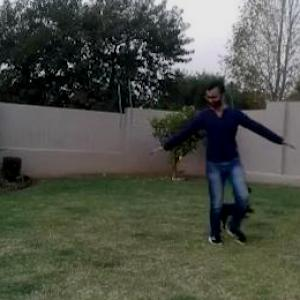land: (141, 82, 262, 225)
